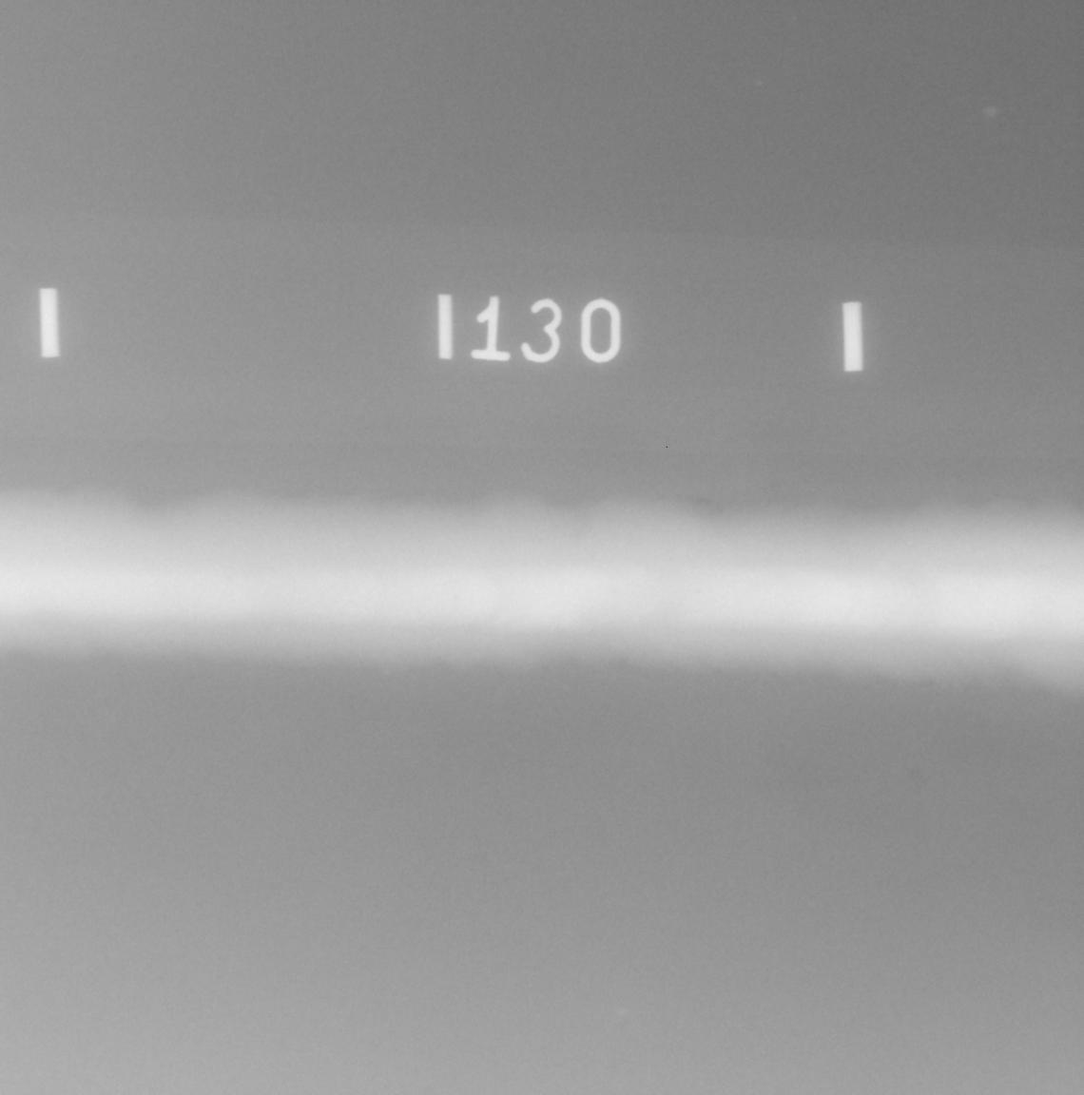Pore/Porosity: (696, 589, 701, 595), (453, 595, 458, 601)
